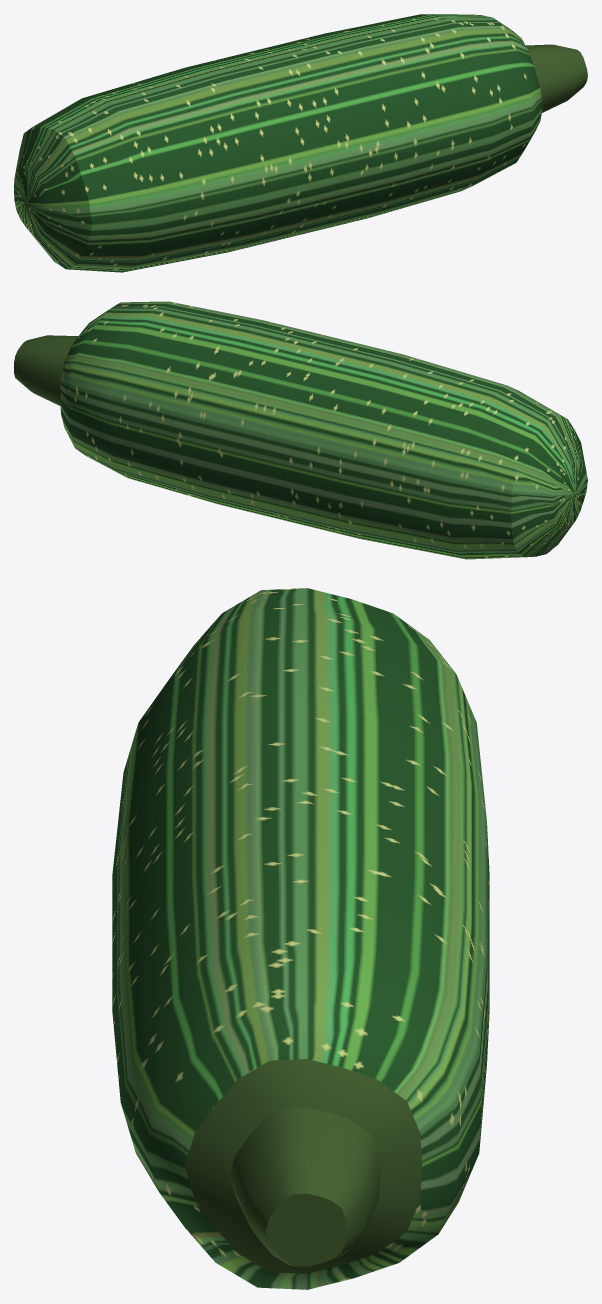
The model's file is Zucchini.fbx.
3 renders of one model, top to bottom at view 1: azimuth 30°, elevation 25°; view 2: azimuth 150°, elevation 25°; view 3: azimuth 270°, elevation 25°, orthographic. The views are drawn at different scales.
Parts seen in each view (by area): view 1: Zucchini; view 2: Zucchini; view 3: Zucchini.
Boxes of the visible parts, x1,y1,x2,y2 form: Zucchini: (14, 14, 587, 272); Zucchini: (14, 301, 587, 559); Zucchini: (112, 588, 489, 1289).
Size of the model in its own units: 0.236 by 0.07 by 0.07.
2 materials, 1 textured.
